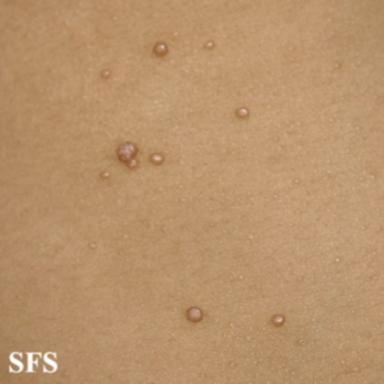Molluscum-Contagiosum: (116, 141, 138, 169), (187, 307, 203, 322), (153, 43, 168, 57), (271, 315, 285, 327), (150, 153, 163, 165), (236, 107, 249, 118), (101, 69, 111, 79), (205, 41, 215, 50), (101, 171, 110, 178)
